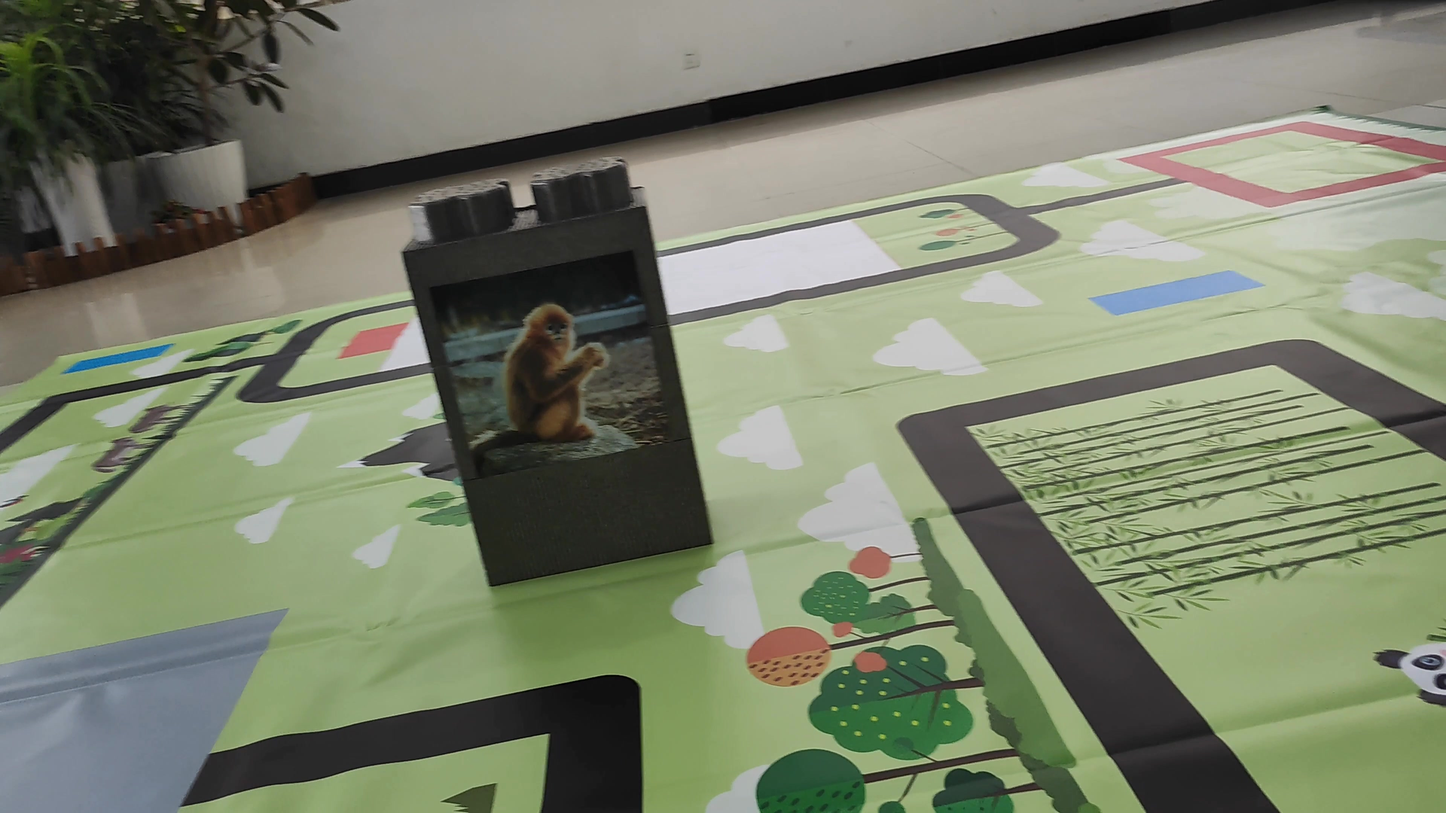monkey: (467, 295, 623, 459)
